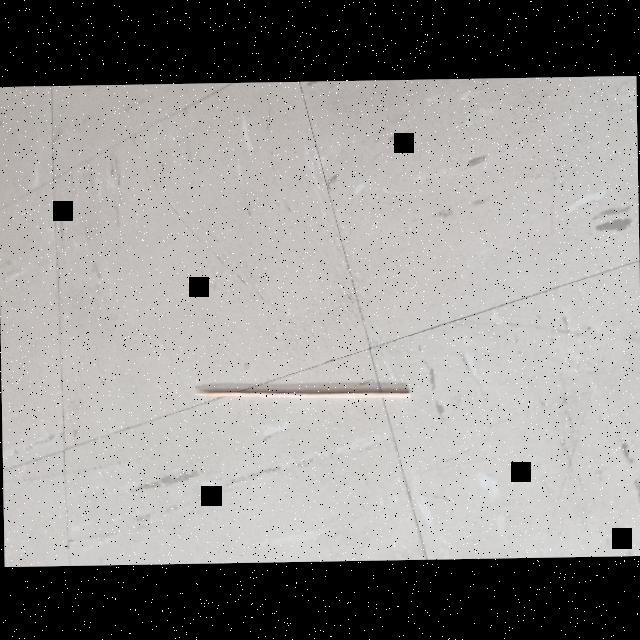stick: (191, 368, 418, 420)
